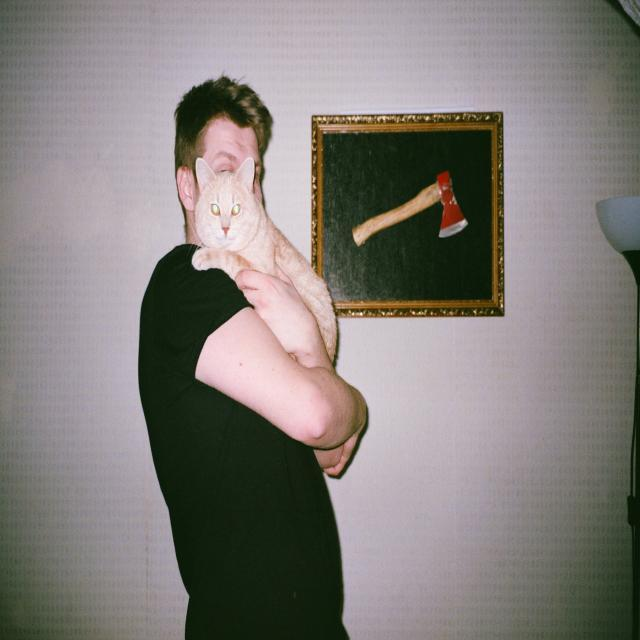Axe: (352, 172, 468, 246)
